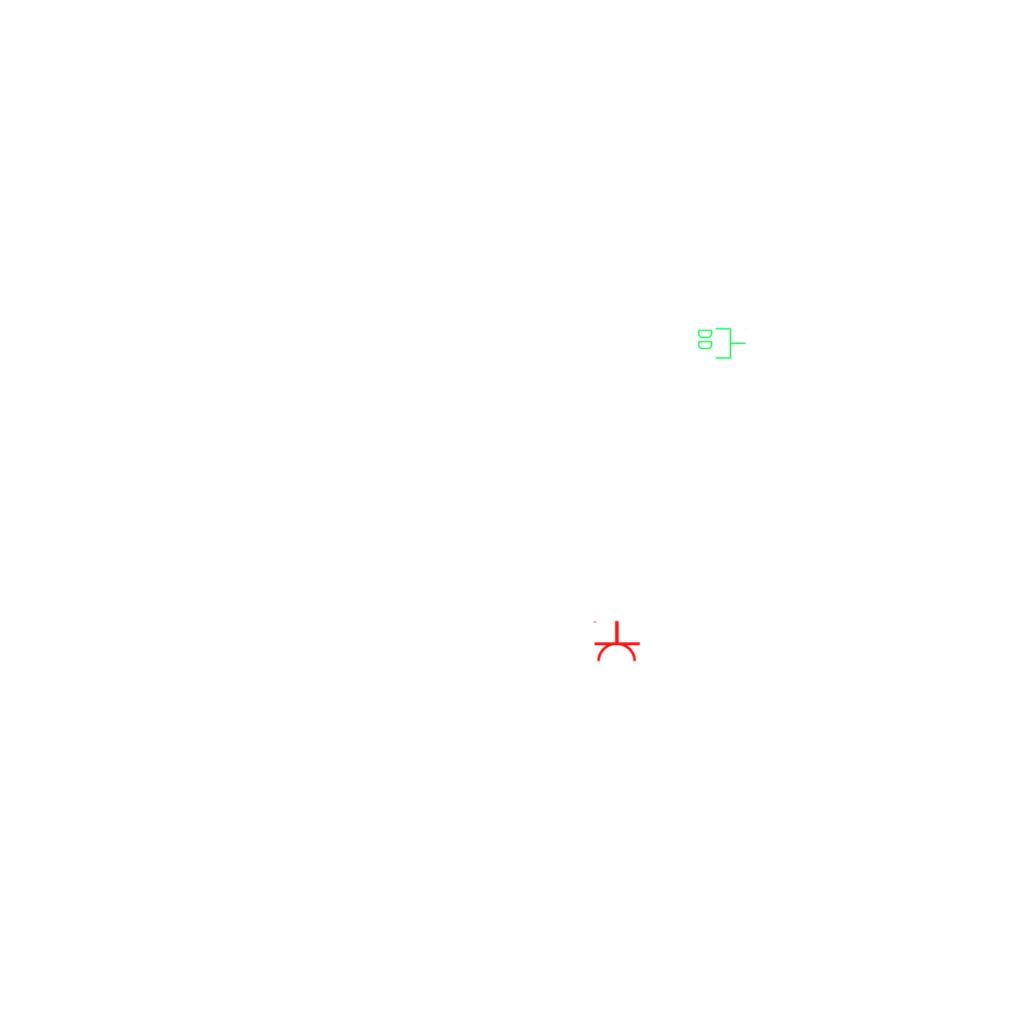Datenanschluss_zweifach: (696, 326, 747, 360)
Schukosteckdose_einfach: (591, 620, 641, 663)
